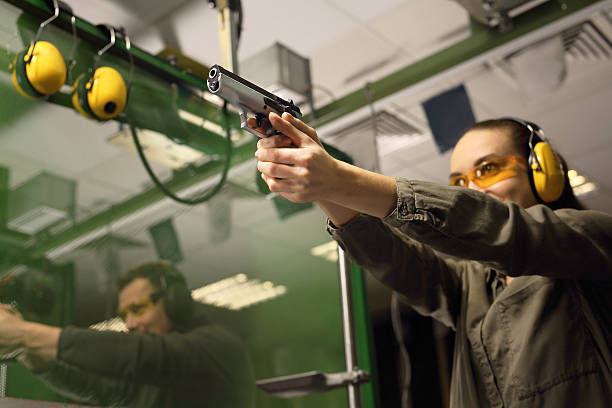gun: (207, 65, 304, 139)
